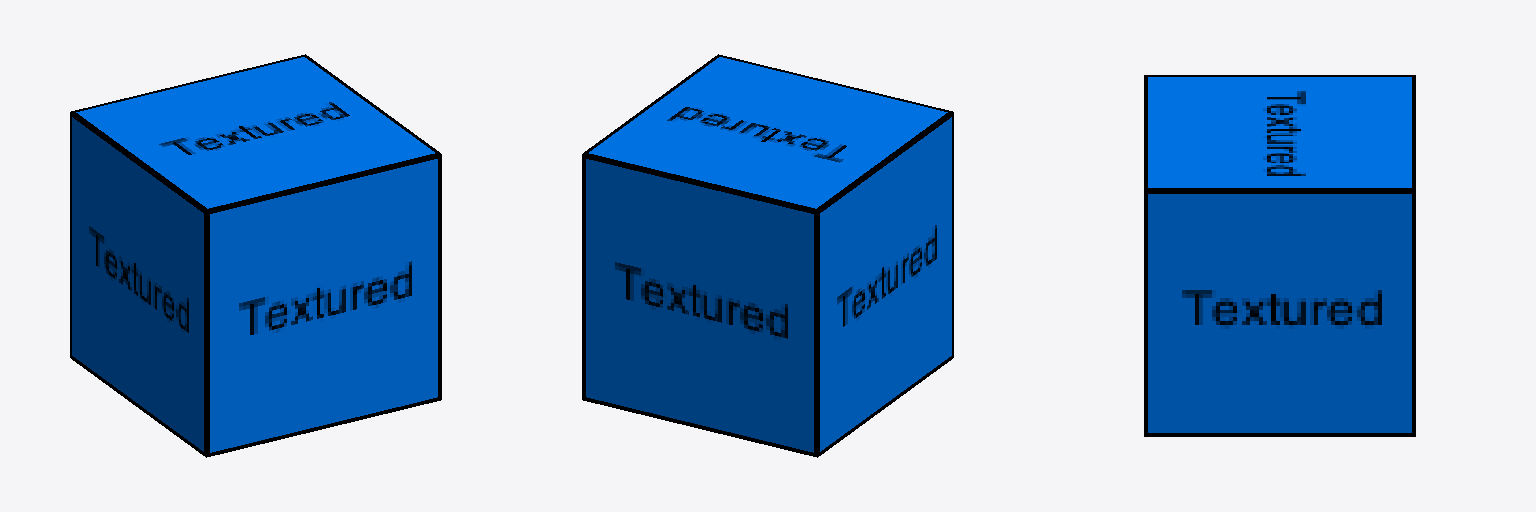
3 views of the same model, side by side, from view 1: azimuth 30°, elevation 25°; view 2: azimuth 150°, elevation 25°; view 3: azimuth 270°, elevation 25° (orthographic).
Parts seen in each view (by area): view 1: Cube; view 2: Cube; view 3: Cube.
Part boxes in pixels (bbox=[...]): Cube: bbox=[70, 54, 441, 457]; Cube: bbox=[582, 54, 953, 457]; Cube: bbox=[1144, 75, 1415, 436].
Size of the model in its own units: 2 by 2 by 2.
1 materials, 1 textured.